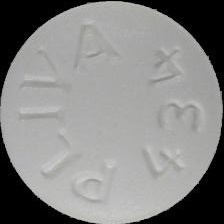58118-0430: (0, 0, 224, 224)
